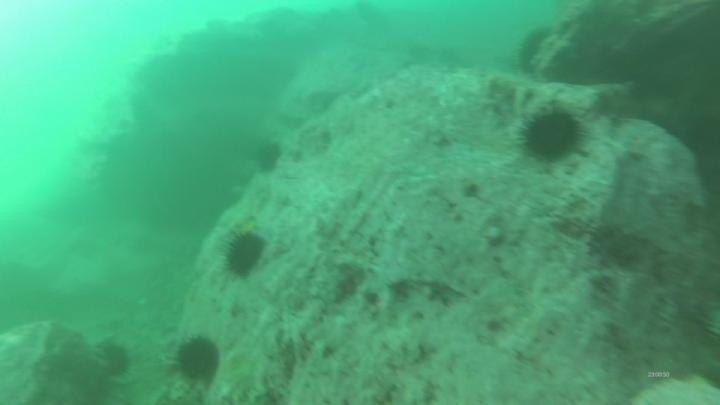echinus: (516, 104, 588, 165), (172, 333, 223, 385), (221, 229, 268, 279), (513, 24, 554, 77), (96, 339, 133, 379), (252, 139, 284, 176)
